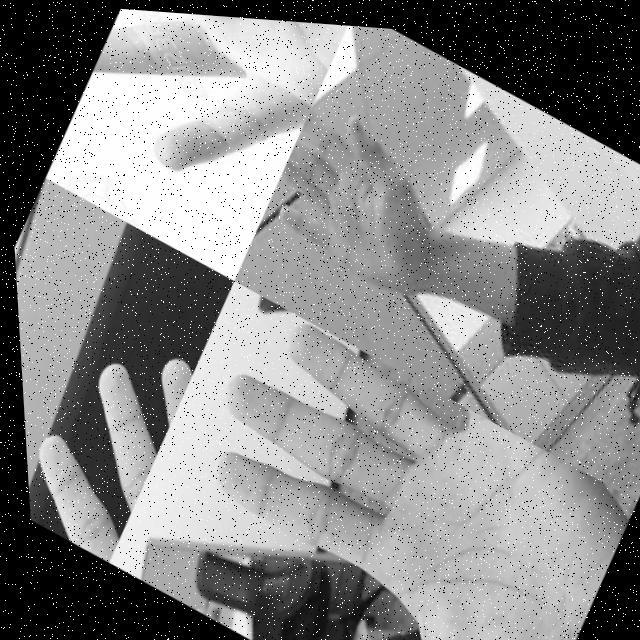no-gloves: (118, 284, 640, 640), (66, 4, 365, 222), (13, 277, 215, 567), (248, 86, 470, 305)
